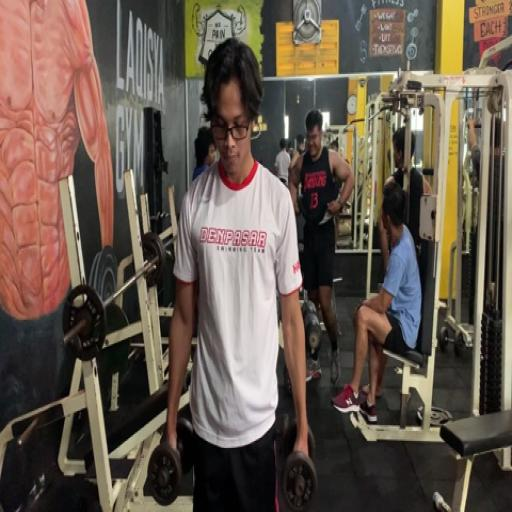exercise: (159, 36, 315, 510), (330, 180, 424, 426), (286, 107, 357, 388)
